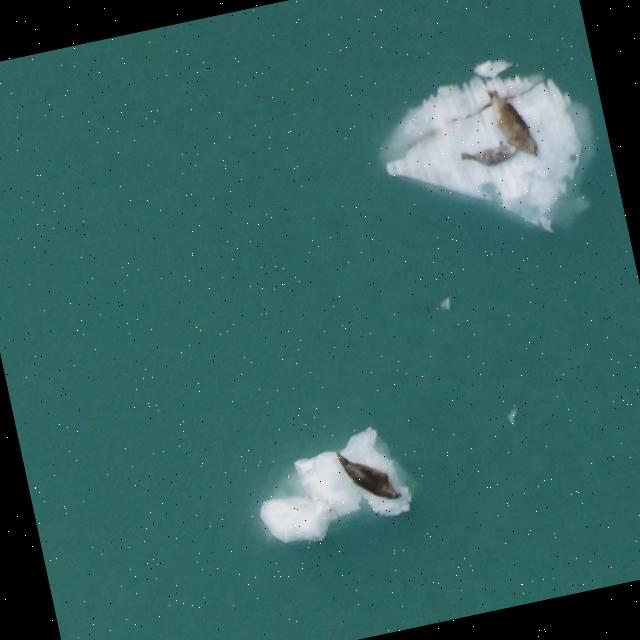seal: (474, 86, 544, 163), (326, 450, 407, 503), (460, 142, 517, 171)
